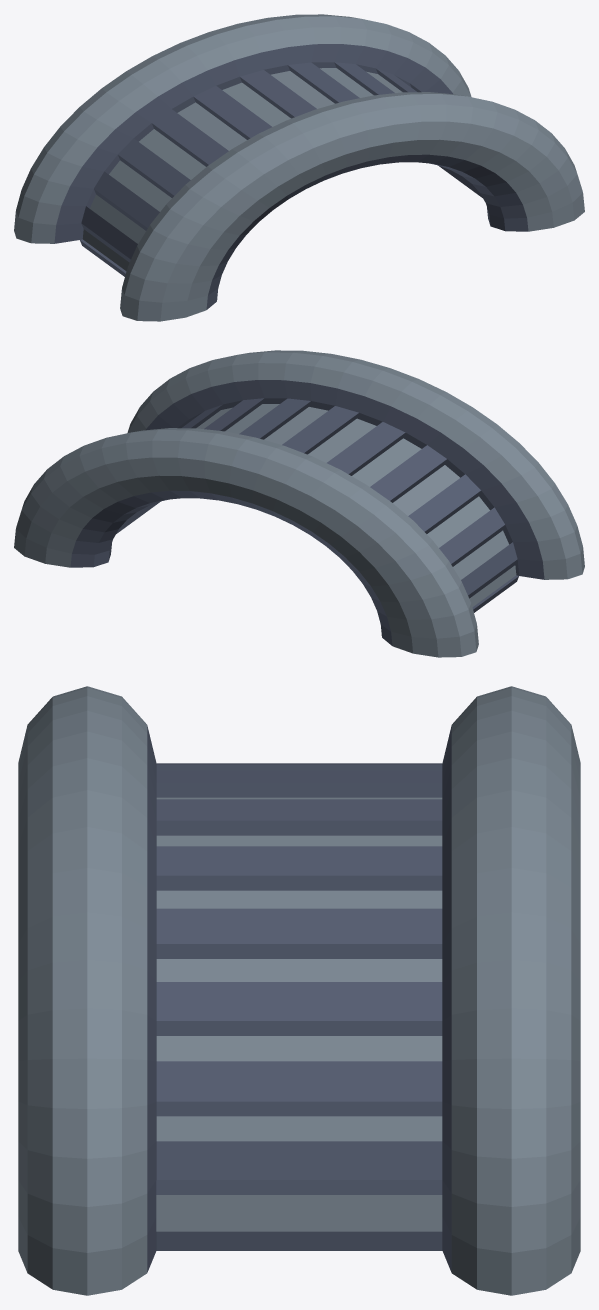
File: ponte.fbx
The picture shows the model from 3 angles, top to bottom: view 1: azimuth 30°, elevation 25°; view 2: azimuth 150°, elevation 25°; view 3: azimuth 270°, elevation 25°; orthographic projection. The views are drawn at different scales.
Visible parts, largest first — view 1: Torus; view 2: Torus; view 3: Torus.
Boxes of the visible parts, x1,y1,x2,y2 form: Torus: (14,14,584,321); Torus: (14,350,584,657); Torus: (18,686,580,1295).
Size of the model in its own units: 384 by 130 by 203.
